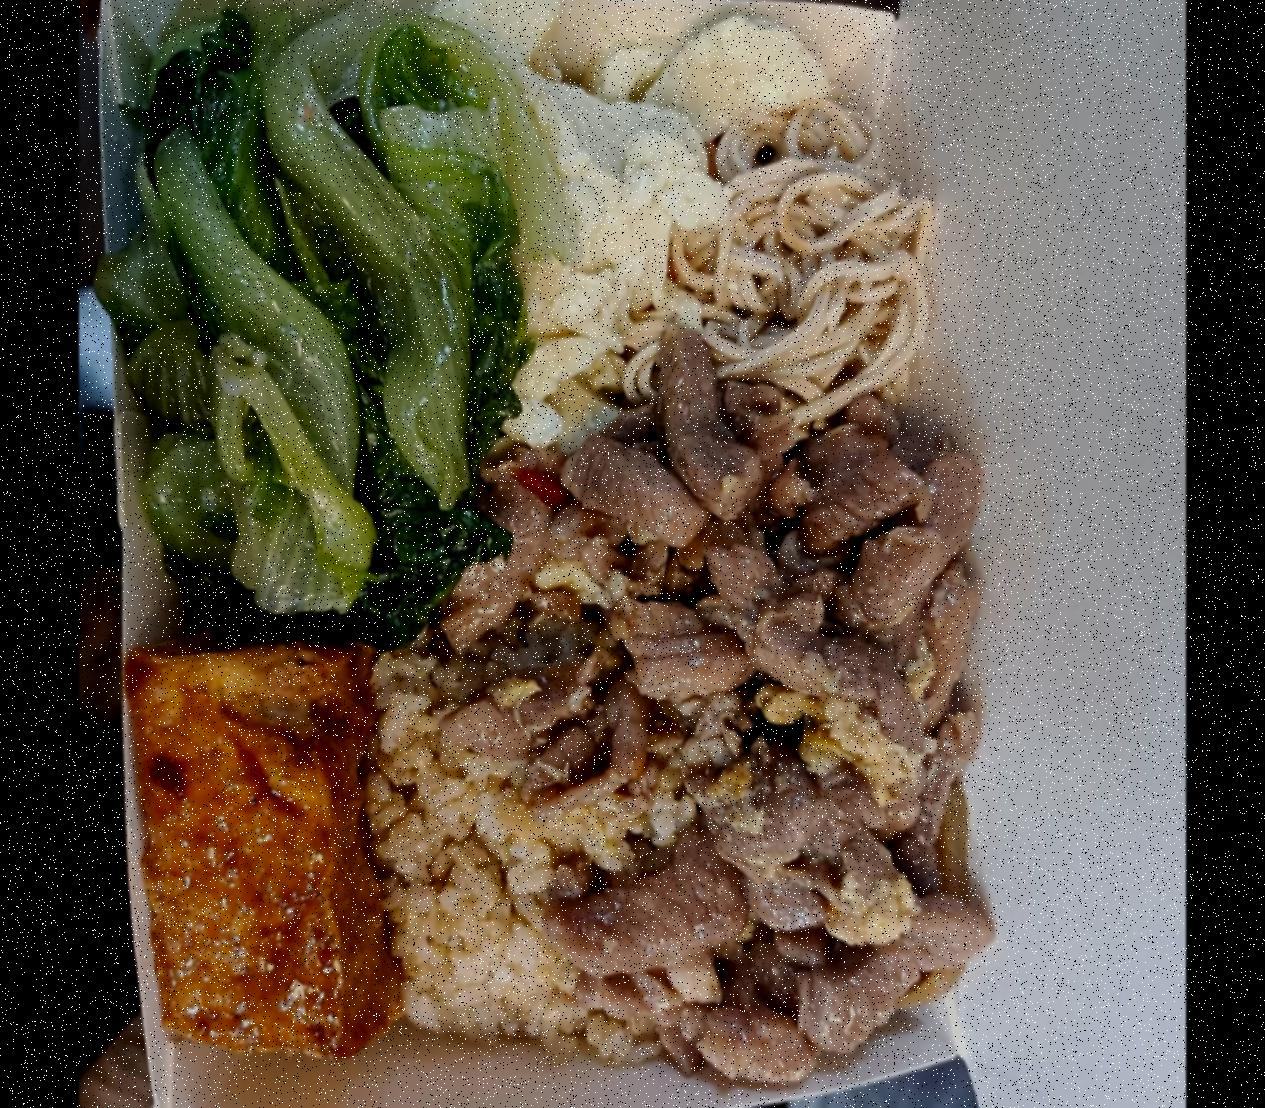box: (94, 0, 1021, 1108)
brown rice: (360, 467, 952, 1049)
pork with scrambled eggs: (507, 421, 973, 1031)
side dish: (126, 11, 494, 587), (130, 607, 390, 1074), (685, 90, 949, 413), (494, 9, 701, 397)
